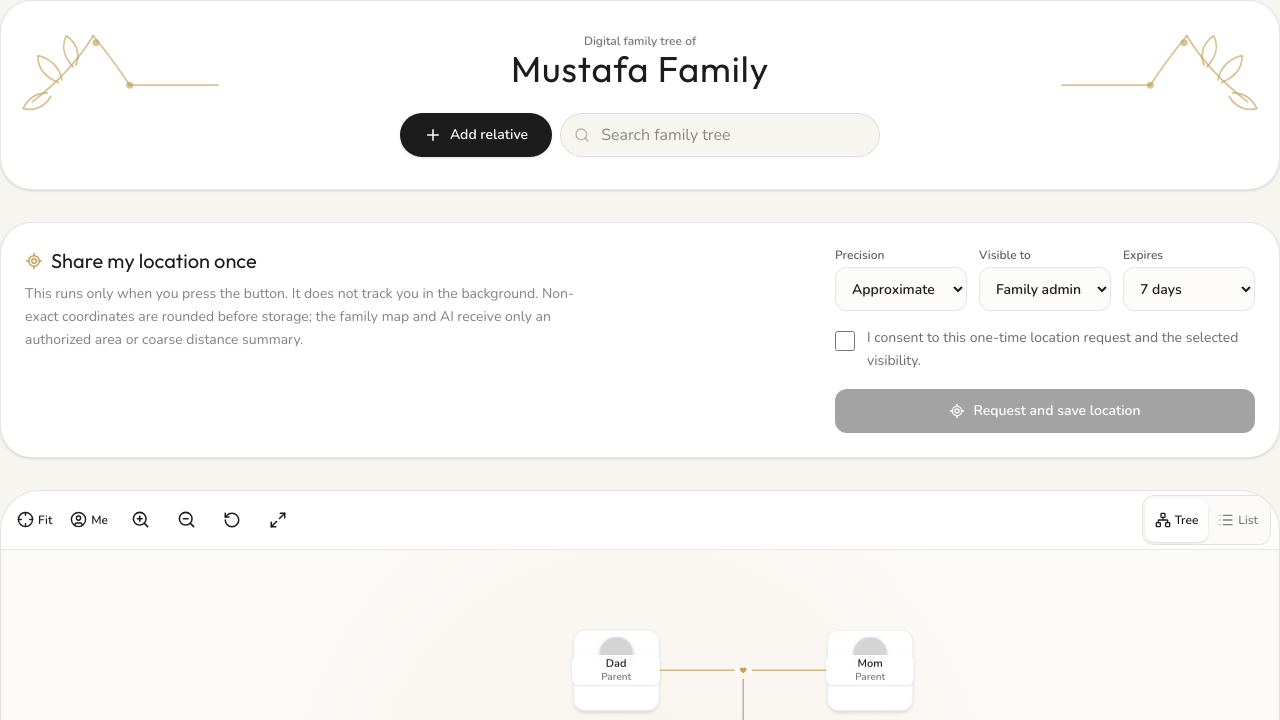
Scenario: FamilyTree mobile interaction model › groups relatives in List view and returns to a refocused tree when a person is tapped
Click the button "List": (1238, 520) [1208, 498, 1268, 542]
(page scrolled)
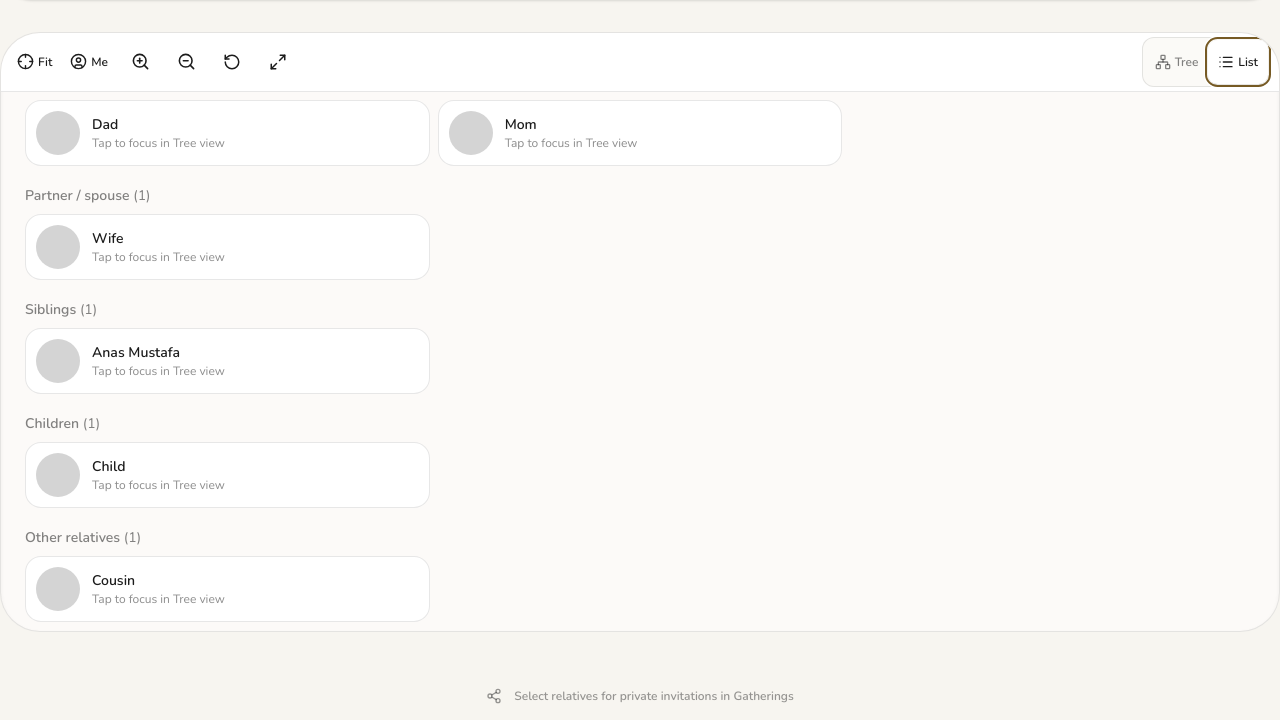
expect the heading "Partner / spouse (1)" is shown: met, box [25, 186, 150, 204]
expect the heading "Siblings (1)" is shown: met, box [25, 300, 97, 318]
expect the heading "Children (1)" is shown: met, box [25, 414, 100, 432]
Click the button with aria-label "Focus on Anas Mustafa in tree": (227, 360) [25, 328, 430, 394]
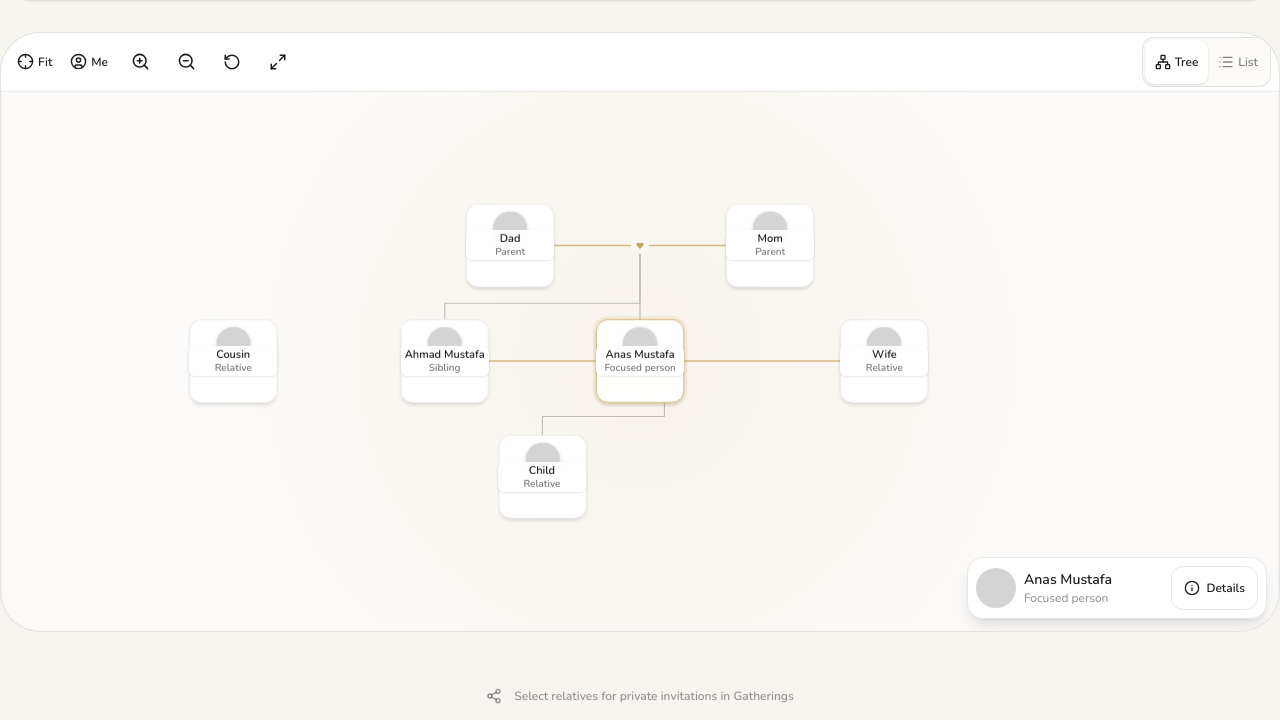
expect the button with aria-label "Wife, Relative." is shown: met, box [862, 339, 906, 383]
expect the button with aria-label "Child, Relative." is shown: met, box [520, 454, 564, 498]
